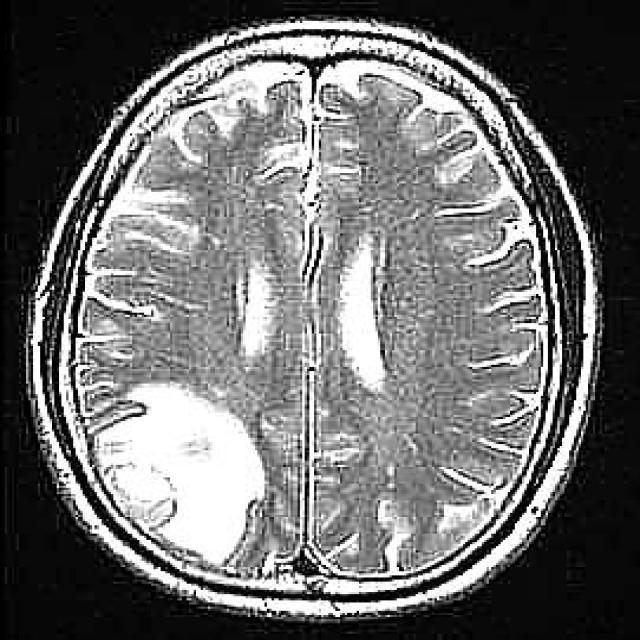brain tumor: (87, 386, 265, 563)
